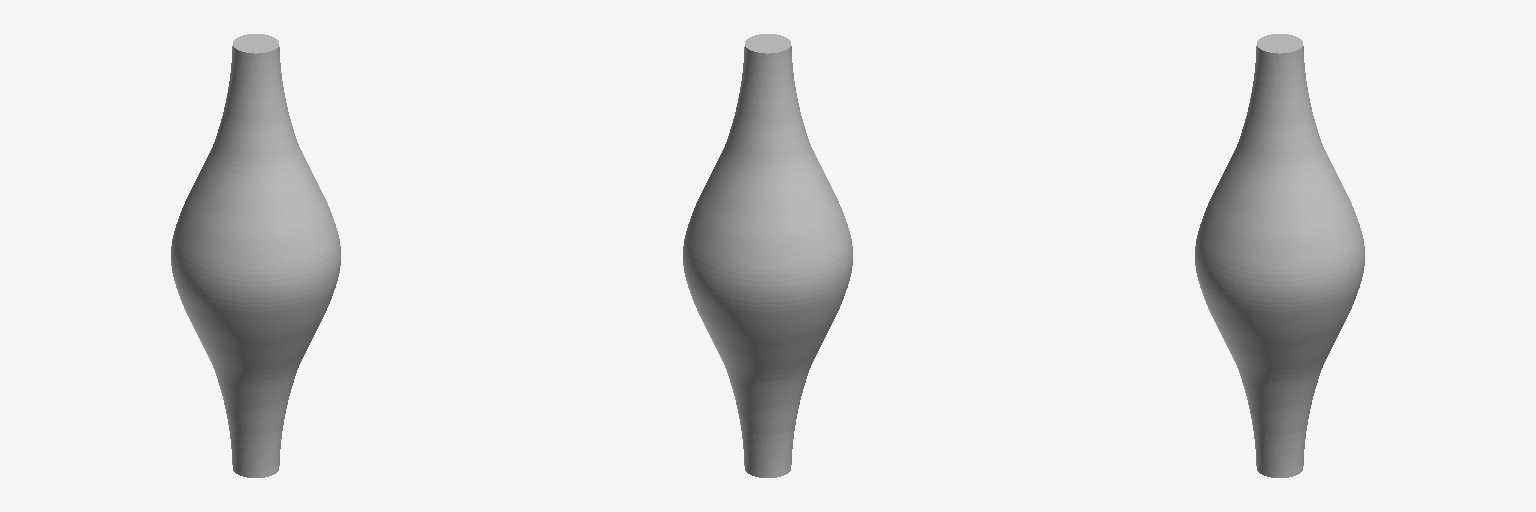
Rendered from drop02.obj.
The picture shows the model from 3 angles: view 1: azimuth 30°, elevation 25°; view 2: azimuth 150°, elevation 25°; view 3: azimuth 270°, elevation 25°; orthographic projection.
Parts seen in each view (by area): view 1: 190708_Ether_100type_drop2; view 2: 190708_Ether_100type_drop2; view 3: 190708_Ether_100type_drop2.
Boxes of the visible parts, x1,y1,x2,y2 form: 190708_Ether_100type_drop2: [171, 34, 340, 477]; 190708_Ether_100type_drop2: [683, 34, 852, 477]; 190708_Ether_100type_drop2: [1195, 34, 1364, 477].
Bounding box in the file's own units: 0.3634 × 1 × 0.3634.